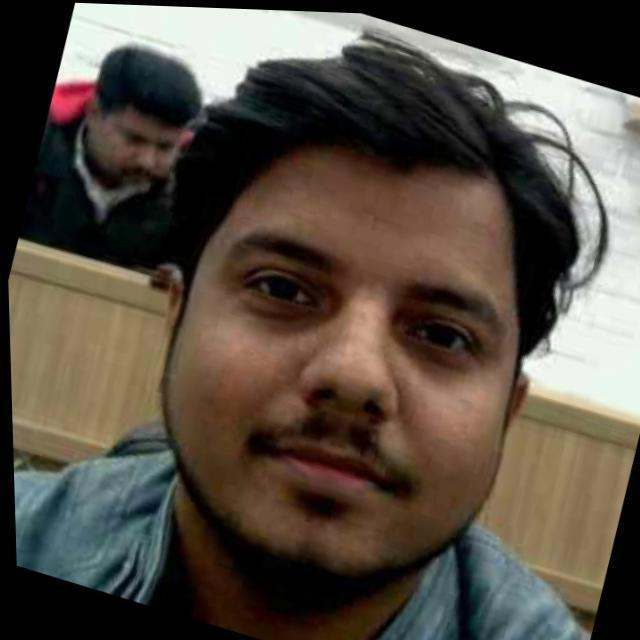puffy_eyes: (230, 289, 318, 321)
